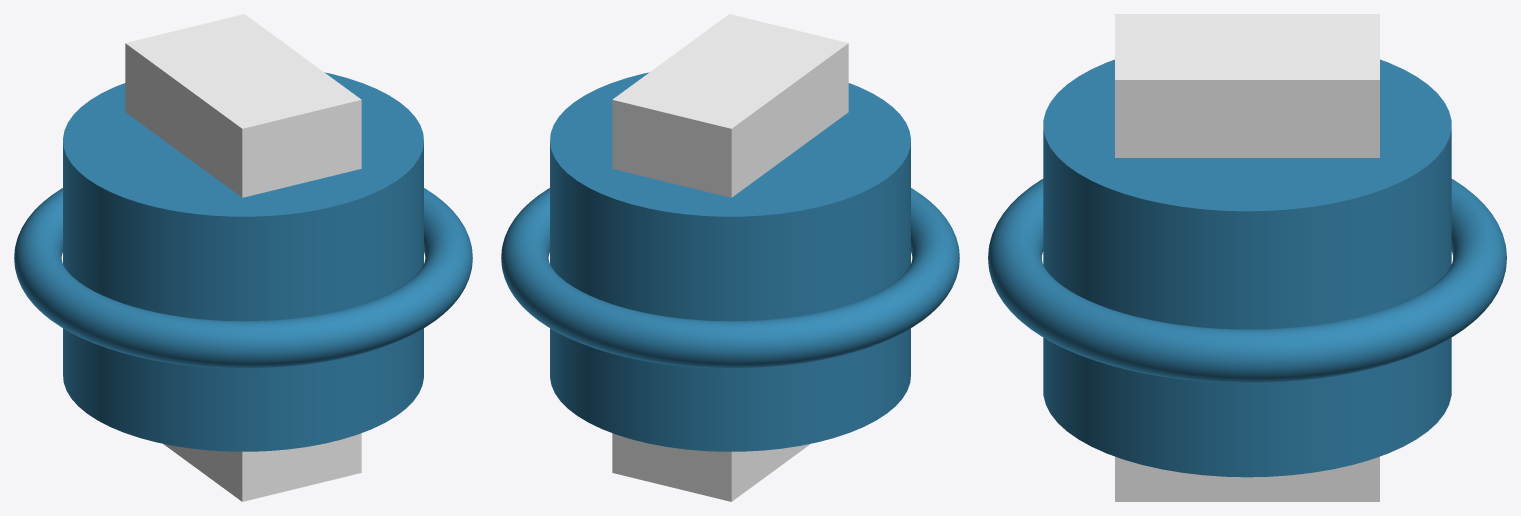
The model's file is CharlieTaylor.gltf.
The picture shows the model from 3 angles, left to right: view 1: azimuth 30°, elevation 25°; view 2: azimuth 150°, elevation 25°; view 3: azimuth 270°, elevation 25°; orthographic projection. The views are drawn at different scales.
Visible parts, largest first — view 1: mesh4_mesh_2, mesh4_mesh, mesh0_mesh, mesh8_mesh_4, mesh8_mesh_2, mesh8_mesh_1, mesh0_mesh_3, mesh4_mesh_1, mesh0_mesh_1; view 2: mesh4_mesh_1, mesh4_mesh, mesh0_mesh_1, mesh8_mesh_4, mesh8_mesh, mesh8_mesh_1, mesh0_mesh_2, mesh4_mesh_2, mesh0_mesh; view 3: mesh4_mesh_1, mesh4_mesh_2, mesh8_mesh_3, mesh4_mesh, mesh8_mesh_4, mesh0_mesh, mesh0_mesh_1, mesh0_mesh_2, mesh0_mesh_3.
Part boxes in pixels (x1=…): mesh4_mesh_2: x1=87, y1=143, x2=423, y2=451; mesh4_mesh: x1=63, y1=72, x2=423, y2=216; mesh0_mesh: x1=45, y1=192, x2=472, y2=354; mesh8_mesh_4: x1=125, y1=14, x2=361, y2=128; mesh8_mesh_2: x1=242, y1=100, x2=361, y2=501; mesh8_mesh_1: x1=125, y1=43, x2=242, y2=501; mesh0_mesh_3: x1=45, y1=250, x2=472, y2=368; mesh4_mesh_1: x1=63, y1=142, x2=86, y2=413; mesh0_mesh_1: x1=14, y1=188, x2=432, y2=305; mesh4_mesh_1: x1=550, y1=143, x2=886, y2=451; mesh4_mesh: x1=550, y1=72, x2=910, y2=216; mesh0_mesh_1: x1=501, y1=192, x2=928, y2=354; mesh8_mesh_4: x1=612, y1=14, x2=848, y2=128; mesh8_mesh: x1=612, y1=100, x2=731, y2=501; mesh8_mesh_1: x1=731, y1=43, x2=848, y2=501; mesh0_mesh_2: x1=501, y1=250, x2=928, y2=368; mesh4_mesh_2: x1=887, y1=142, x2=910, y2=413; mesh0_mesh: x1=541, y1=188, x2=959, y2=305; mesh4_mesh_1: x1=1247, y1=130, x2=1451, y2=477; mesh4_mesh_2: x1=1043, y1=130, x2=1247, y2=477; mesh8_mesh_3: x1=1115, y1=80, x2=1379, y2=501; mesh4_mesh: x1=1043, y1=59, x2=1451, y2=211; mesh8_mesh_4: x1=1115, y1=14, x2=1379, y2=79; mesh0_mesh: x1=988, y1=179, x2=1247, y2=367; mesh0_mesh_1: x1=1247, y1=179, x2=1506, y2=367; mesh0_mesh_2: x1=1247, y1=248, x2=1506, y2=382; mesh0_mesh_3: x1=988, y1=248, x2=1247, y2=382.
Size of the model in its own units: 0.1698 by 0.1524 by 0.1698.
